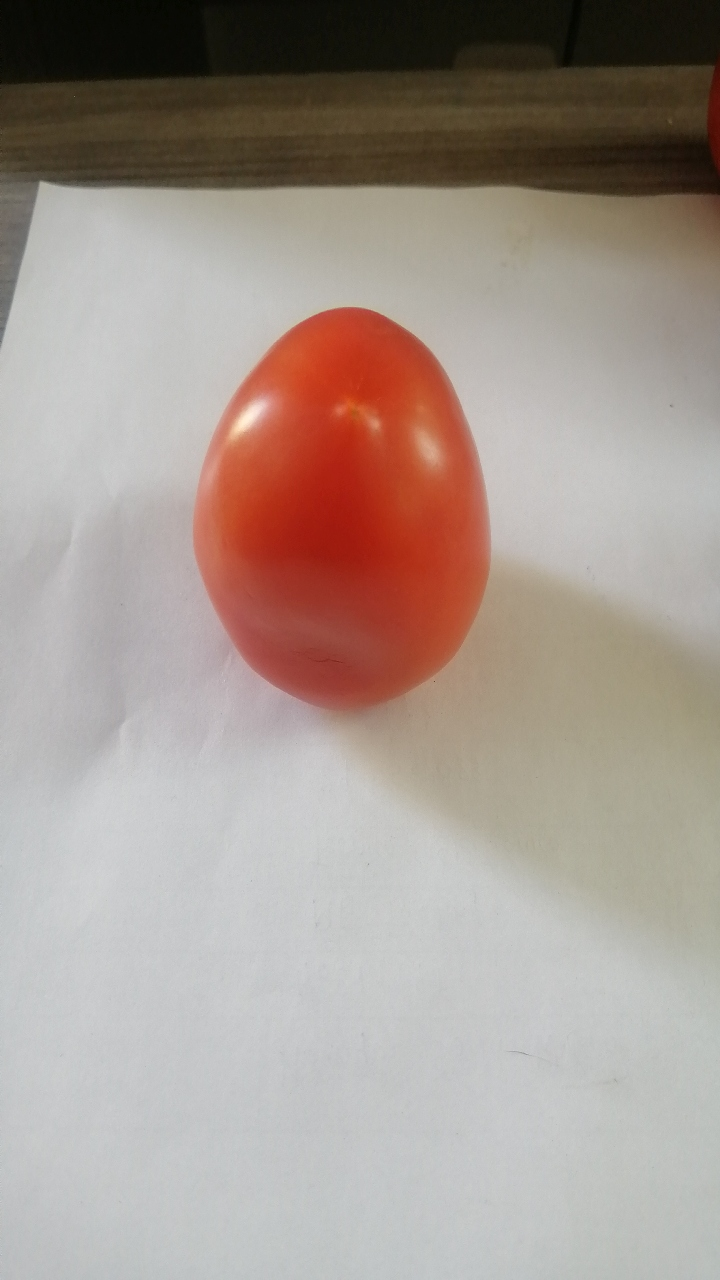tomateRojo: (172, 292, 520, 728)
